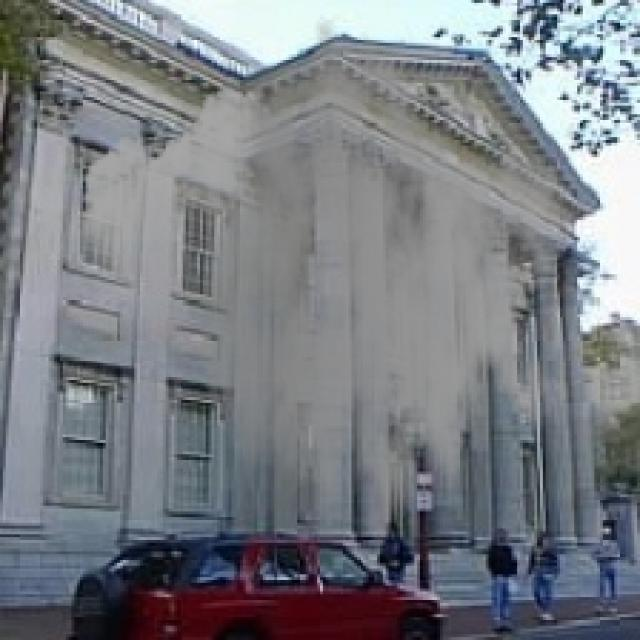smoke: (57, 17, 572, 580)
